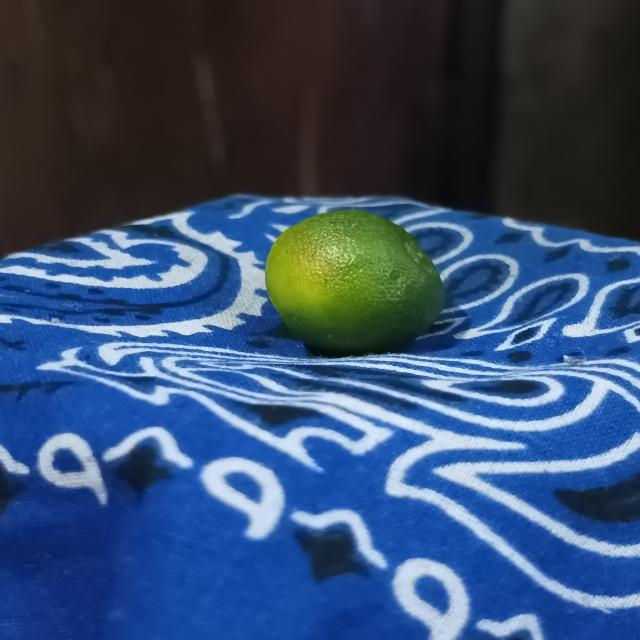heathy: (259, 204, 450, 359)
